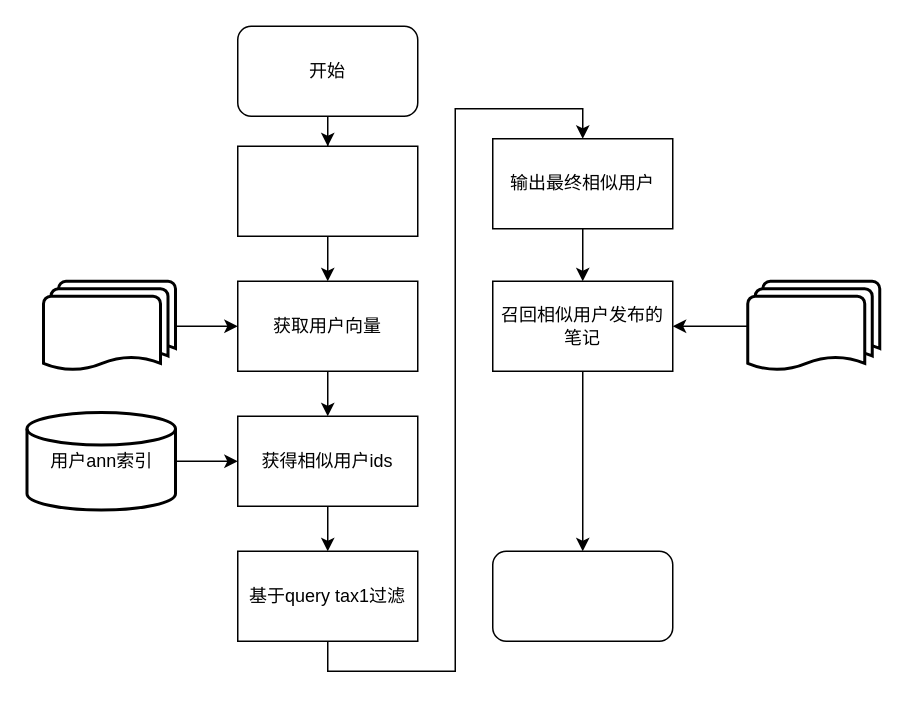
Image size: 908x710. Some labels were removed from this diagram. Each missing label, with the box of its shape:
ES集群: (746, 279, 880, 372)
user dssm vector: (41, 279, 176, 372)
结束: (491, 550, 673, 641)
获取用户user_id, query tax1: (236, 145, 418, 236)
